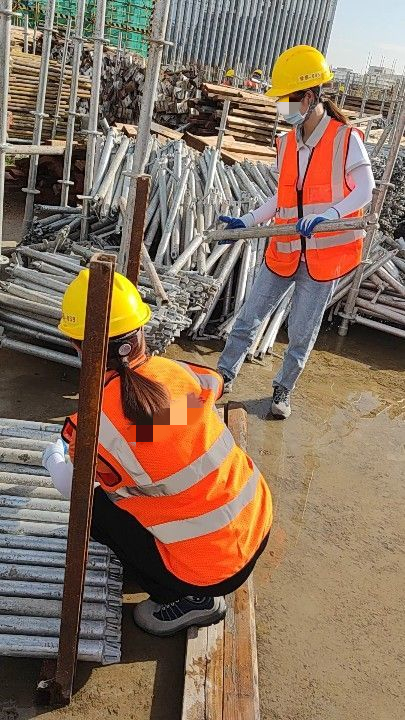helmet: (50, 263, 153, 335), (266, 45, 338, 96)
person: (47, 263, 275, 634), (233, 42, 377, 413)
scaffold: (1, 400, 167, 681), (66, 119, 301, 265), (1, 246, 211, 367)
vest: (63, 365, 270, 583), (271, 120, 373, 278)
